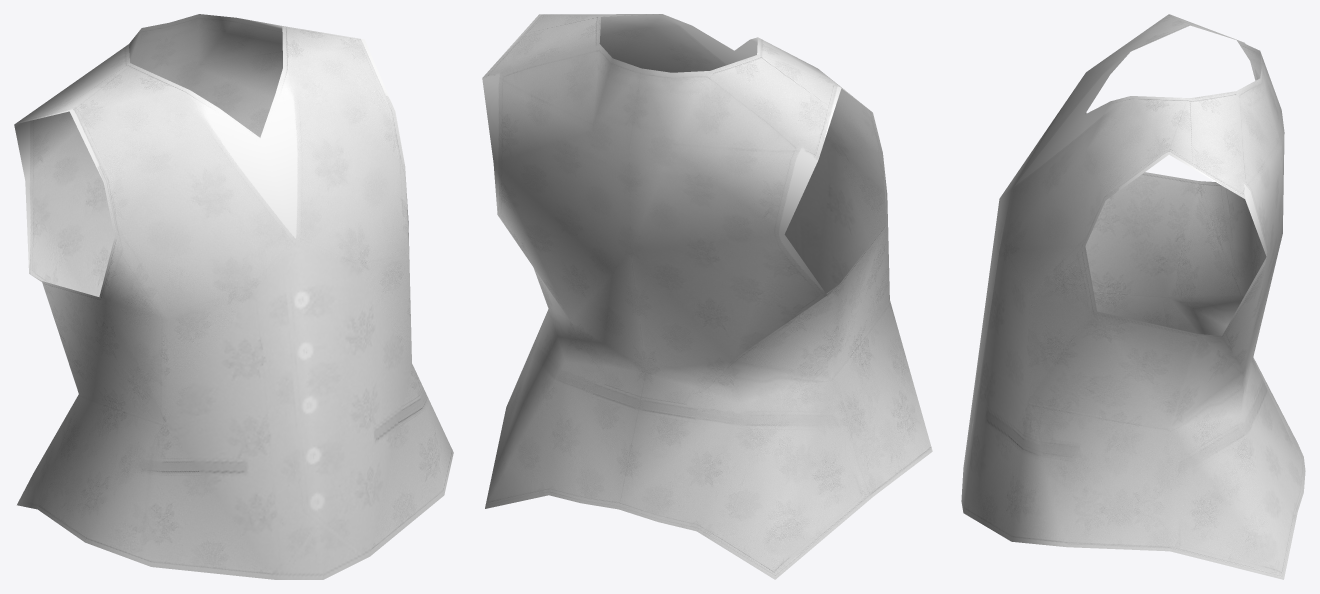
File: VestRoyal.glb
The picture shows the model from 3 angles, left to right: view 1: azimuth 30°, elevation 25°; view 2: azimuth 150°, elevation 25°; view 3: azimuth 270°, elevation 25°; orthographic projection. The views are drawn at different scales.
Parts seen in each view (by area): view 1: VestRoyal; view 2: VestRoyal; view 3: VestRoyal.
Boxes of the visible parts, x1,y1,x2,y2 form: VestRoyal: [14, 14, 453, 579]; VestRoyal: [482, 14, 932, 579]; VestRoyal: [961, 14, 1305, 579].
Bounding box in the file's own units: 5.41 × 6.47 × 4.48.
Materials: 1 (1 with a texture image).
